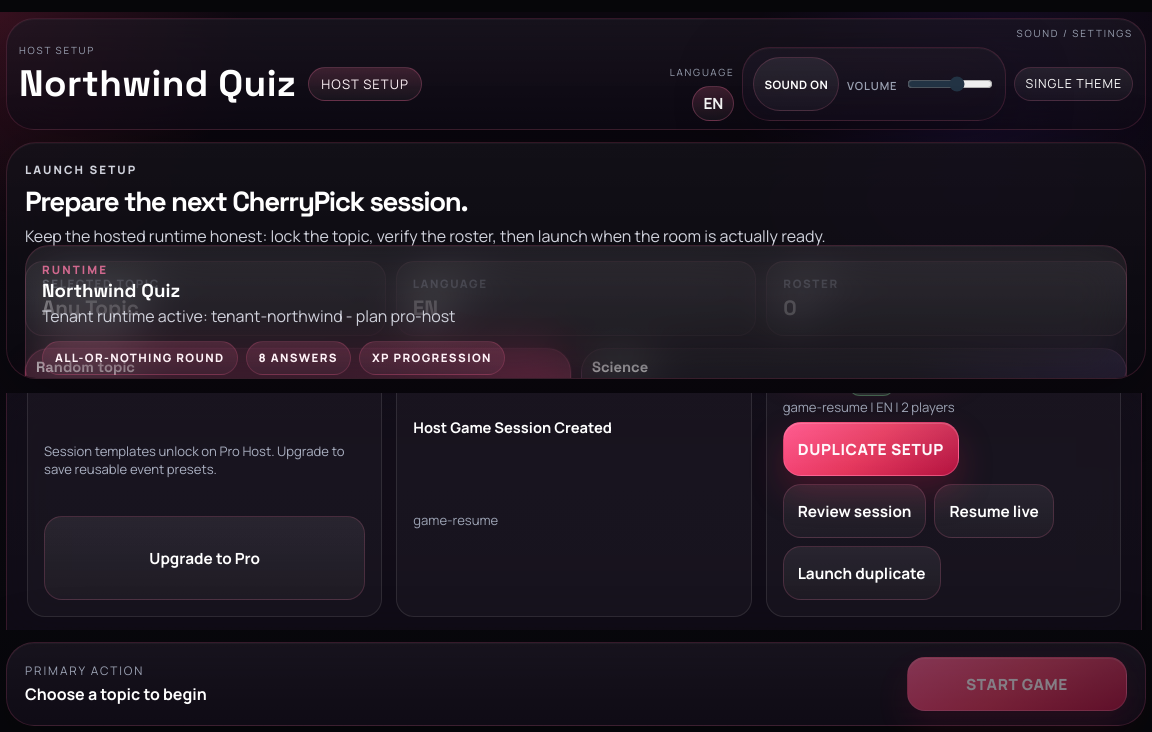
App tenant runtime integration › resumes live hosted session from recent host history
(page scrolled)
Click the button "Resume live" at (994, 511), box [934, 484, 1054, 538]
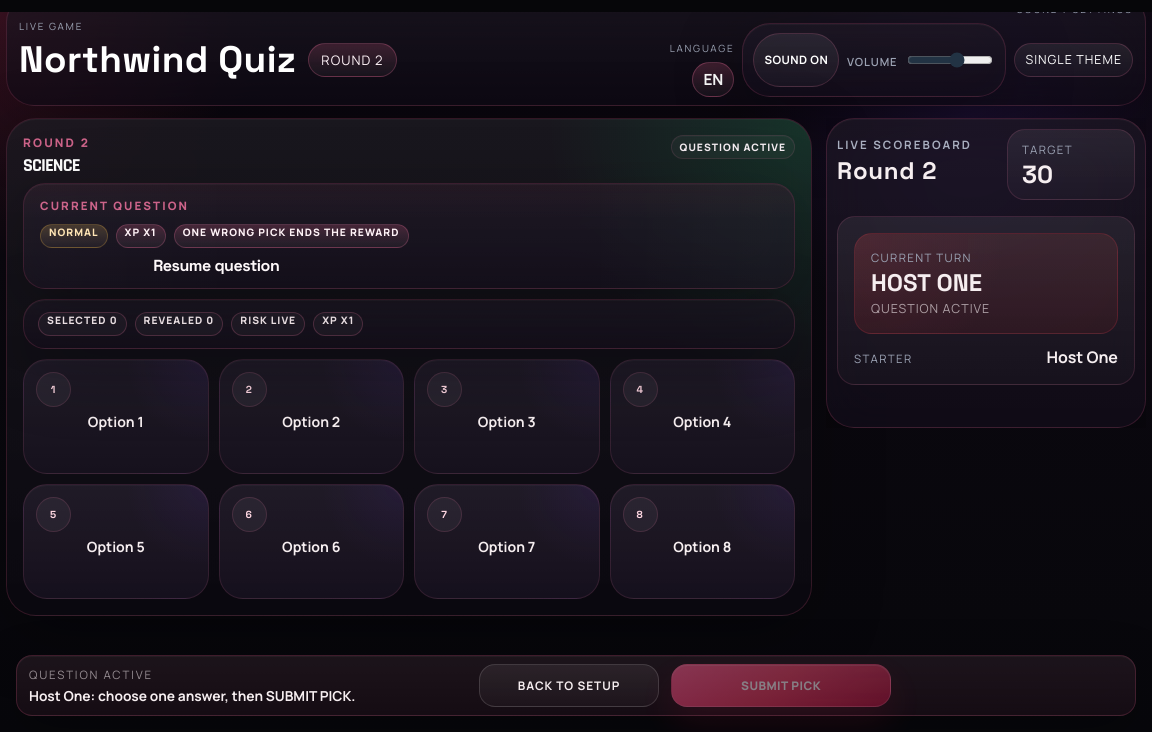
Now the text "Resume question" is shown, box [153, 255, 279, 276]
Now the button with aria-label "answer-1 available" is shown, box [23, 359, 208, 474]
